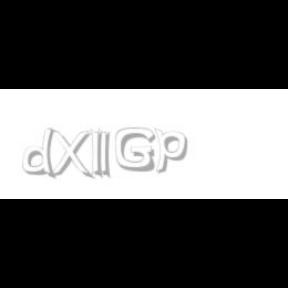G: (115, 128, 155, 172)
X: (48, 128, 92, 180)
d: (22, 128, 60, 180)
l: (91, 128, 107, 180), (98, 128, 114, 180)
p: (154, 128, 192, 174)
